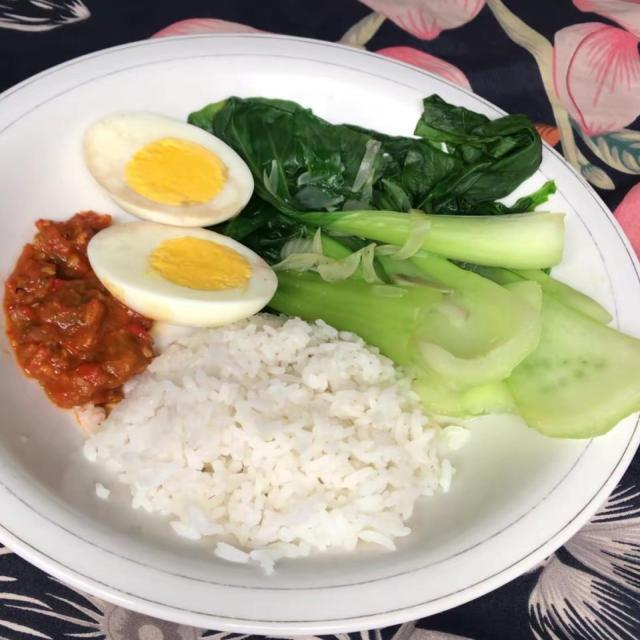Egg: (84, 111, 276, 325)
Plate: (0, 340, 639, 629)
Rice: (79, 314, 472, 566)
Vegetables: (184, 91, 639, 438)
